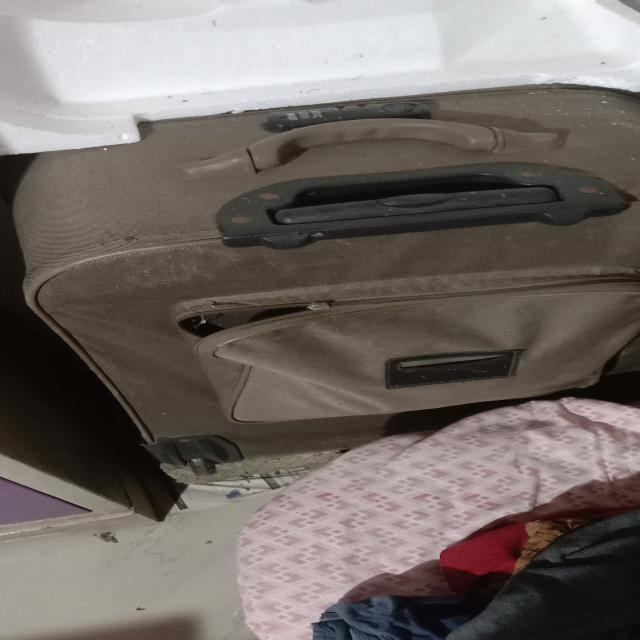suitcaserotation: (1, 78, 640, 487)
